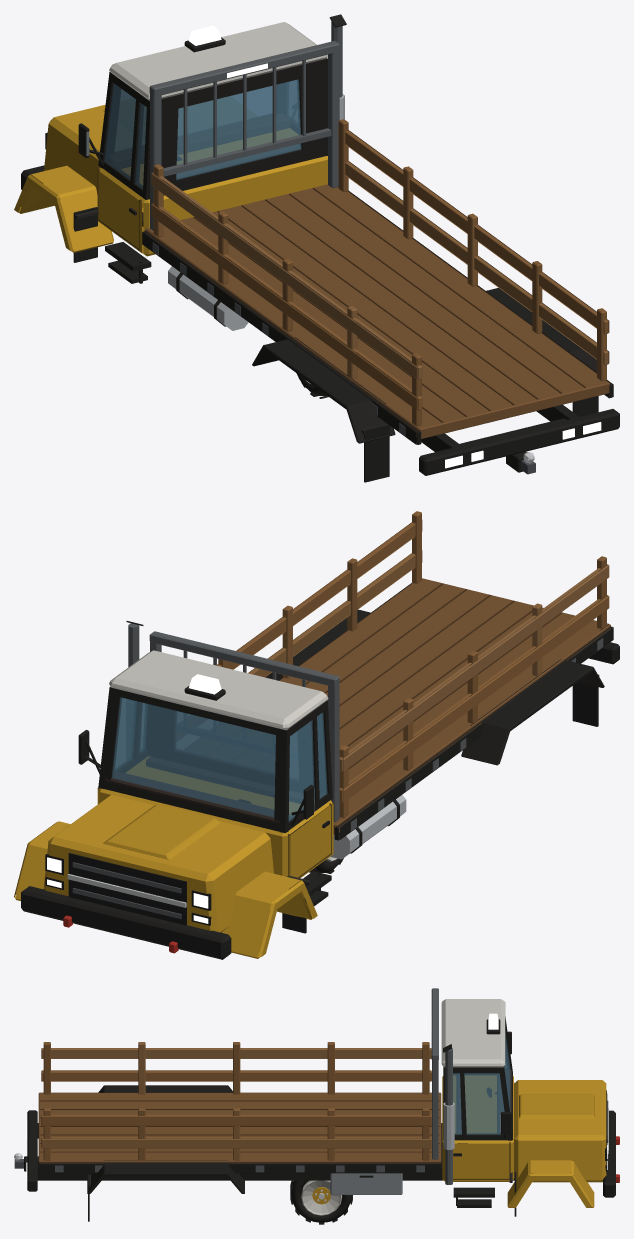
The model's file is Flatbed.glb.
The picture shows the model from 3 angles, top to bottom: view 1: azimuth 30°, elevation 25°; view 2: azimuth 150°, elevation 25°; view 3: azimuth 270°, elevation 25°; orthographic projection. The views are drawn at different scales.
Parts seen in each view (by area): view 1: Bed, Body, Glass, Lights; view 2: Body, Bed, Glass, Lights; view 3: Bed, Body, Glass, Wheel.
Boxes of the visible parts, box(x1,y1,x2,y2) form: Bed: box(142, 41, 613, 444); Body: box(14, 14, 619, 482); Glass: box(86, 79, 301, 188); Lights: box(188, 25, 601, 468); Body: box(14, 609, 619, 959); Bed: box(149, 511, 613, 840); Glass: box(111, 697, 327, 821); Lights: box(47, 674, 221, 923); Bed: box(38, 988, 441, 1173); Body: box(27, 999, 619, 1221); Glass: box(453, 1031, 510, 1134); Wheel: box(290, 1180, 352, 1224).
Size of the model in its own units: 12.18 by 13.54 by 35.2.
